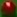brown: (0, 0, 17, 17)
